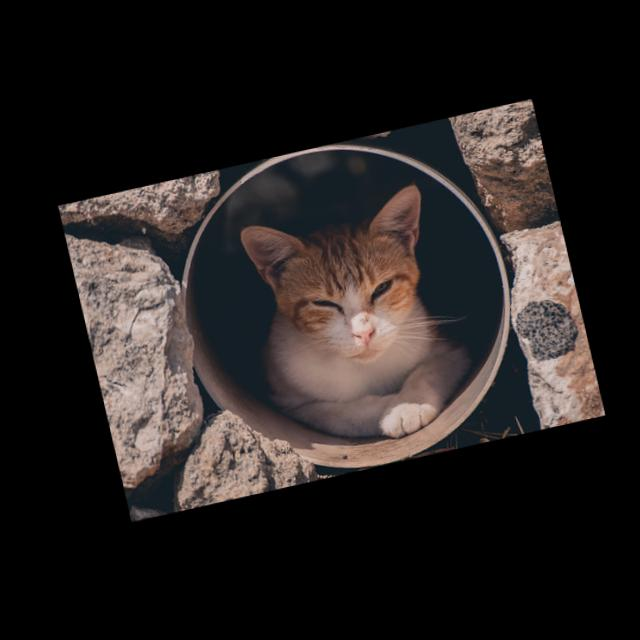animals: (234, 182, 484, 465)
